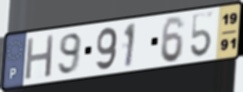1: (122, 21, 137, 69)
5: (189, 10, 218, 60)
6: (159, 15, 187, 65)
9: (56, 31, 83, 75), (95, 26, 119, 72)
H: (23, 33, 56, 82)
